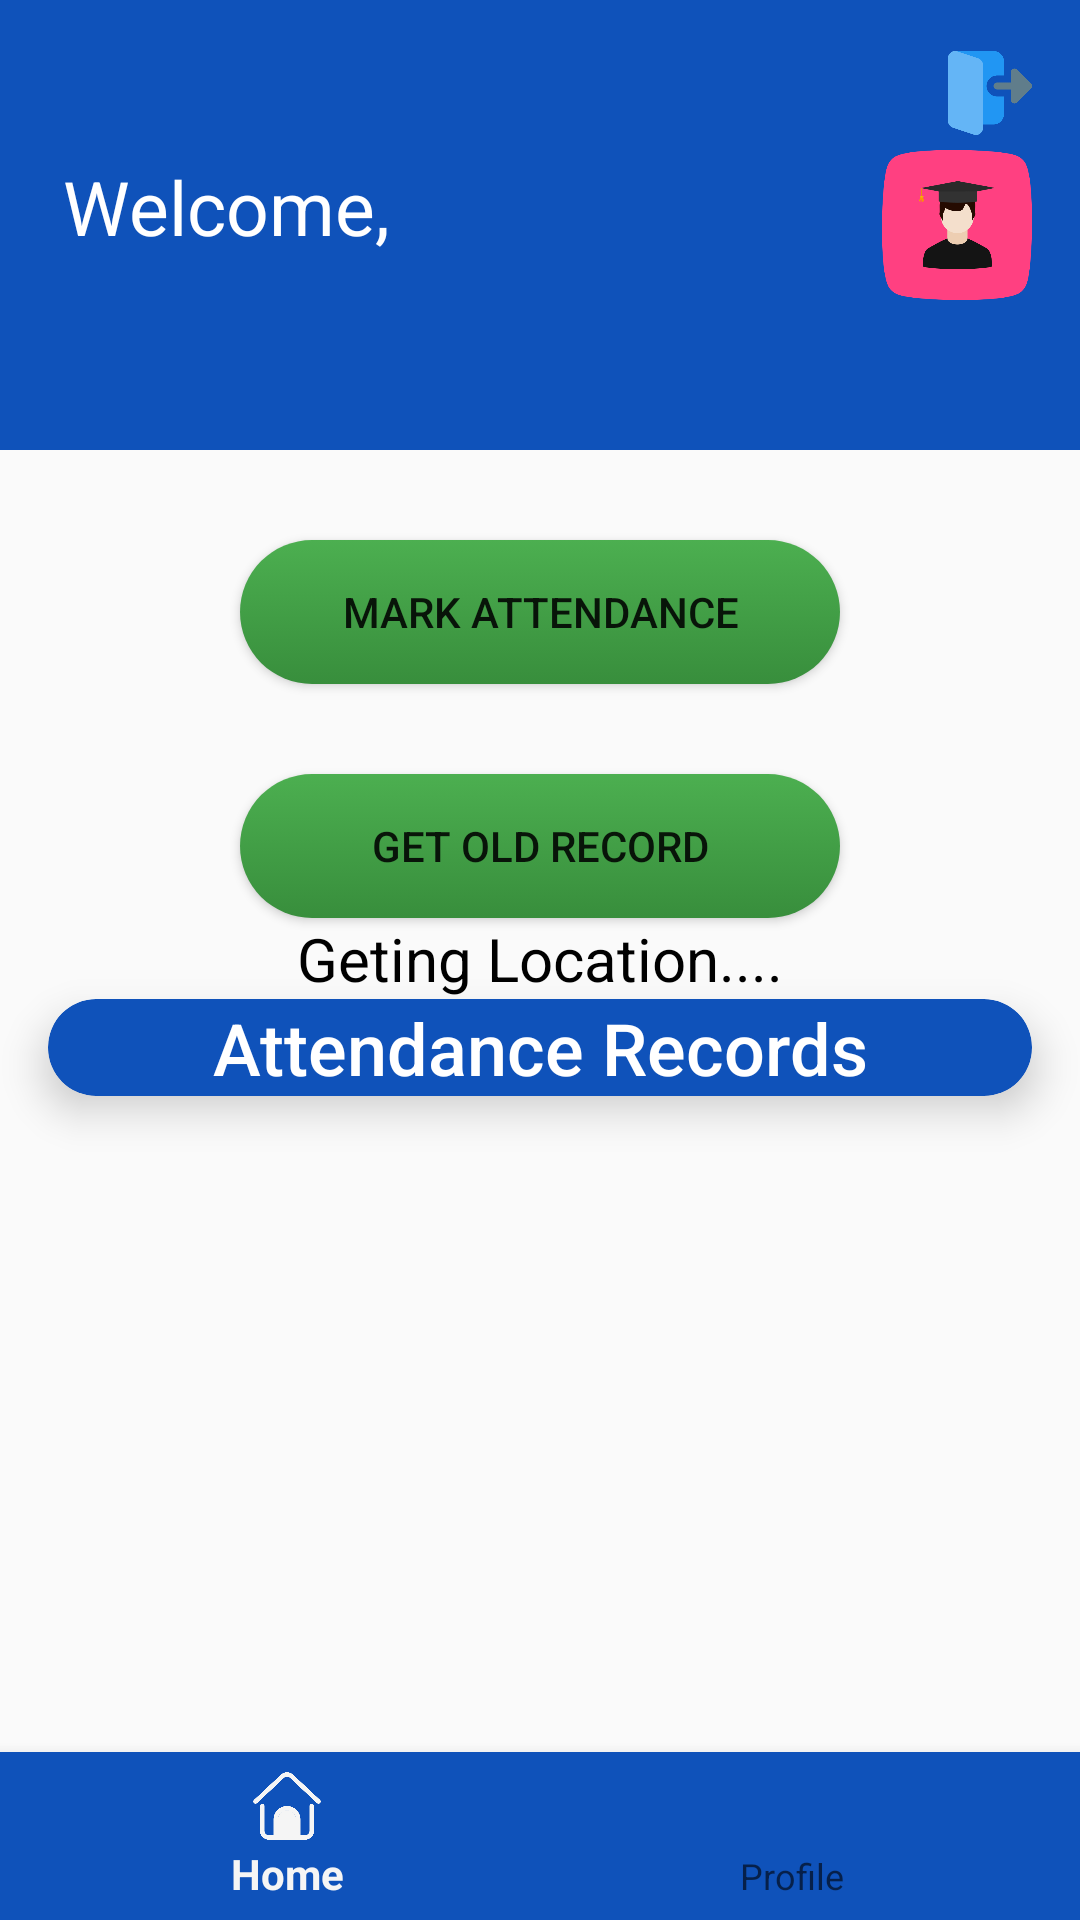

Where to tap for icons on this 1080*1920 app screen, as (x=x, y=y):
arrow: (x=990, y=93)
Profile Picture: (x=957, y=225)
